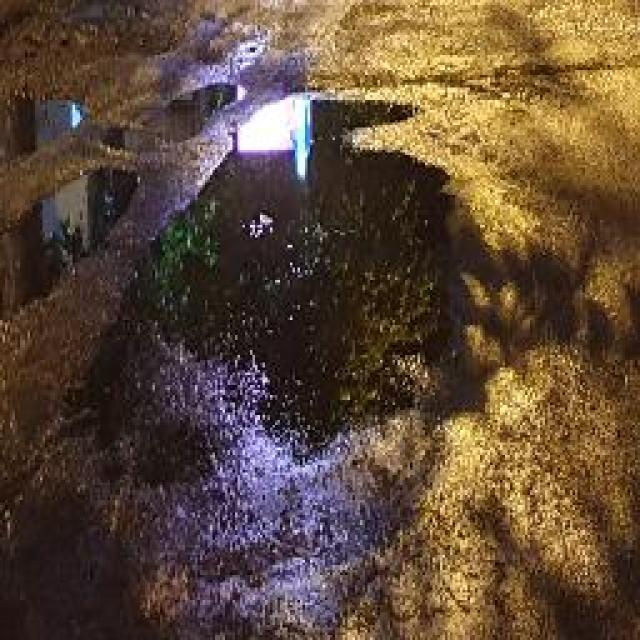puddle: (150, 99, 458, 448), (1, 170, 139, 314)
